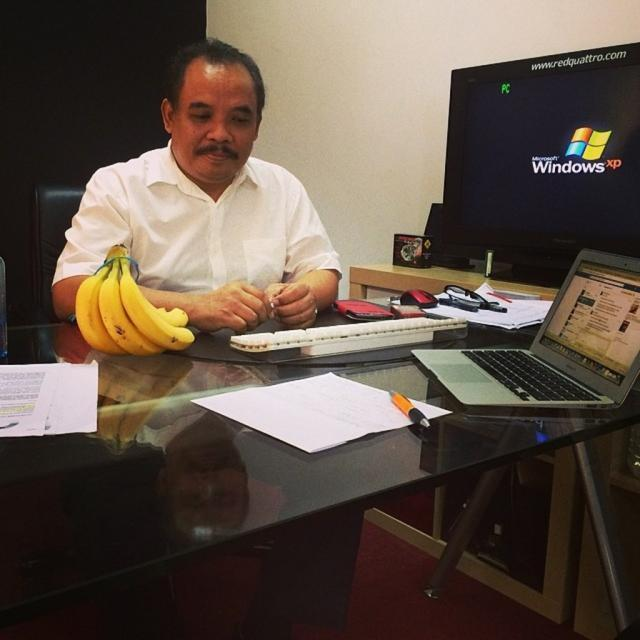Banana: (75, 254, 194, 353)
